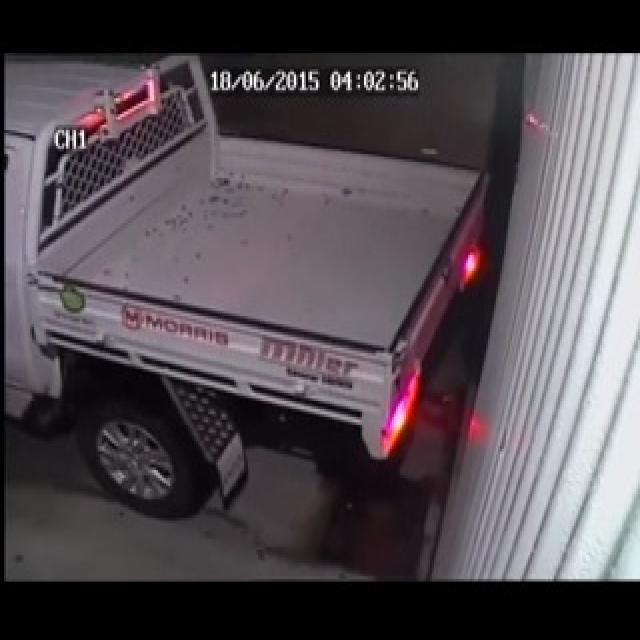burglary: (0, 67, 503, 516)
